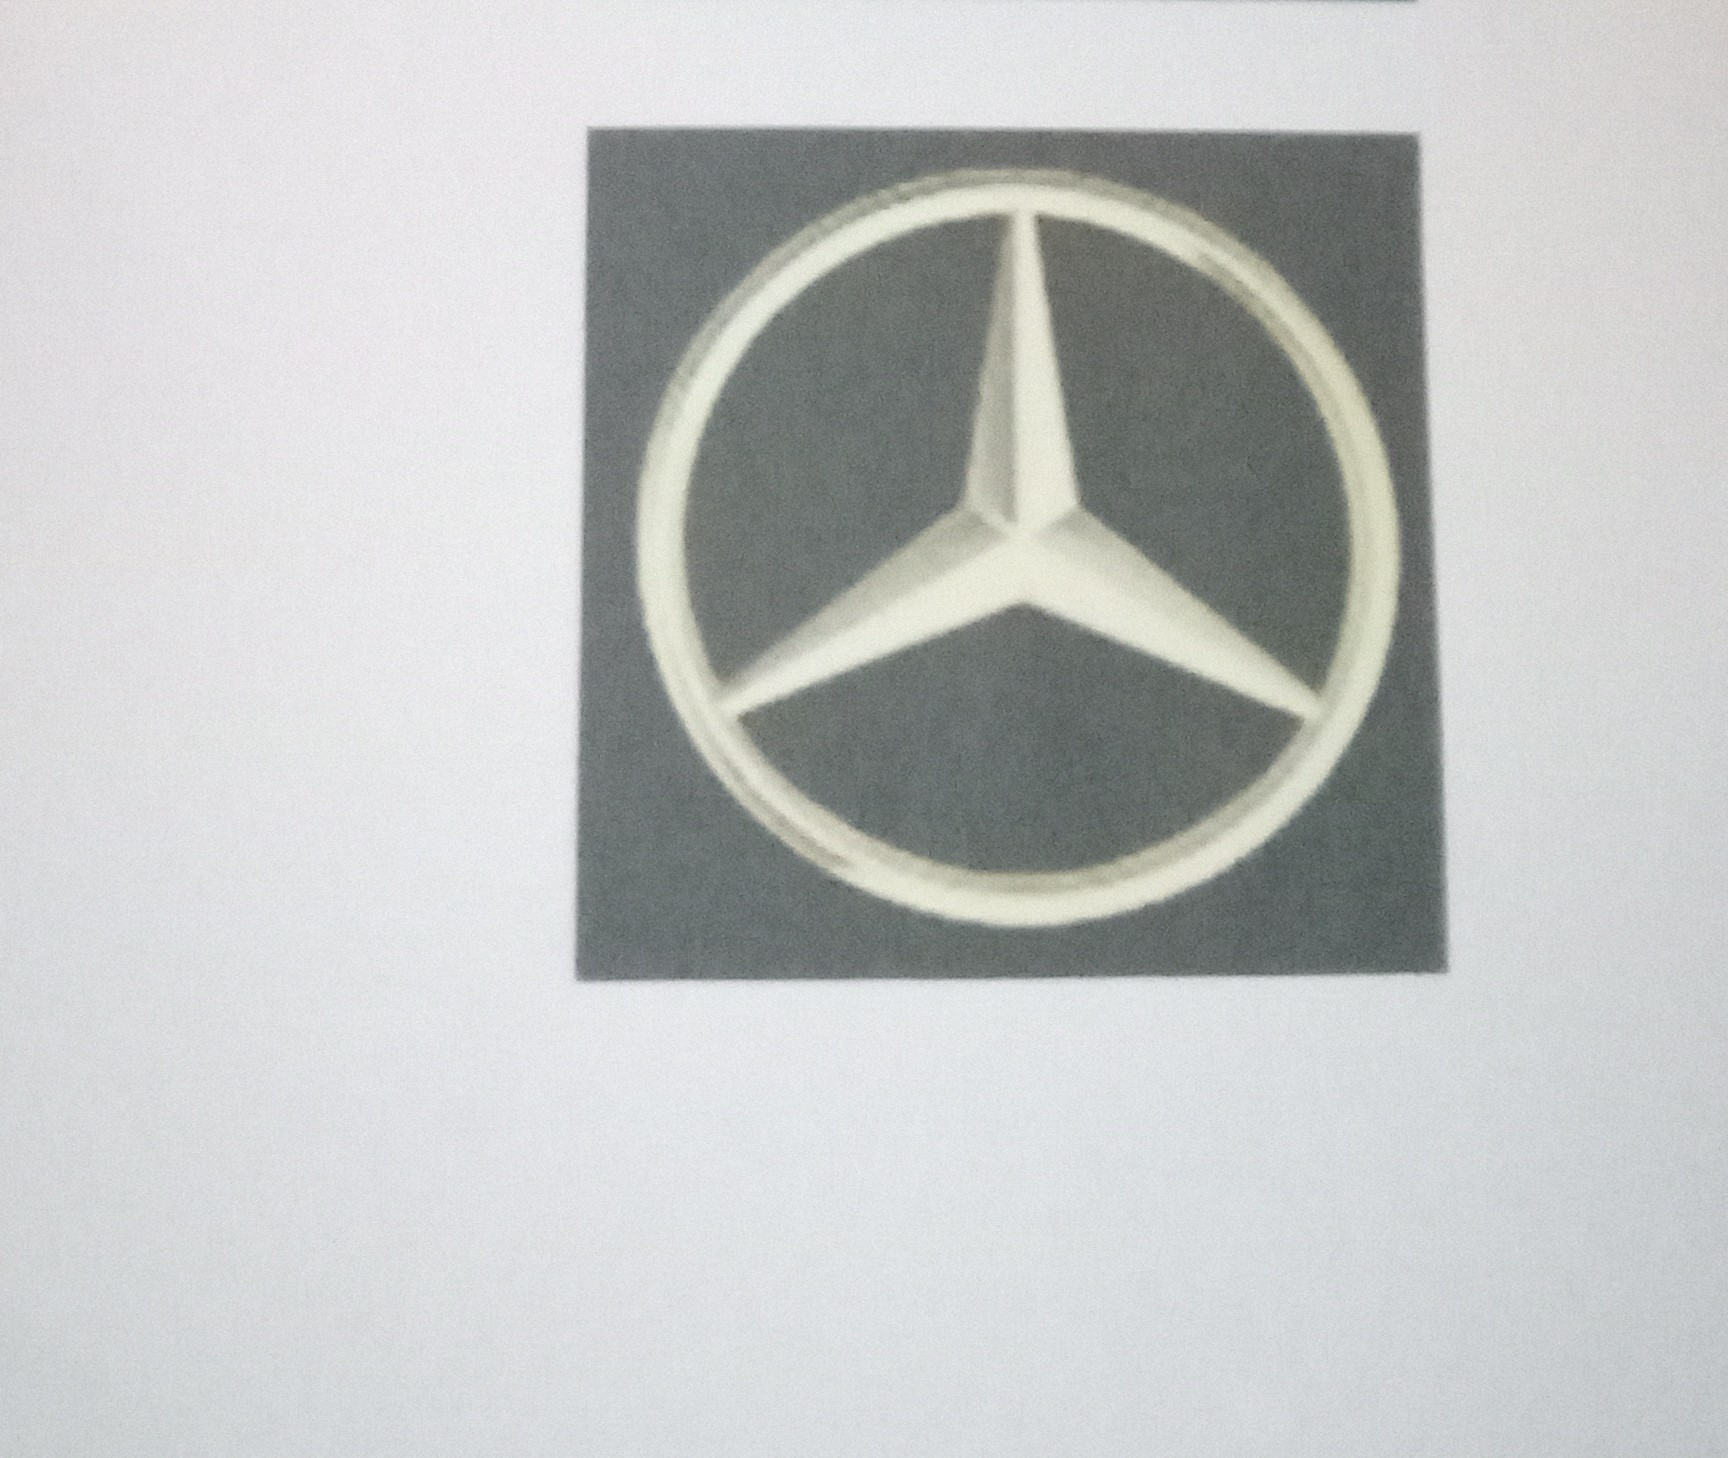Mercedes: (607, 137, 1439, 955)
